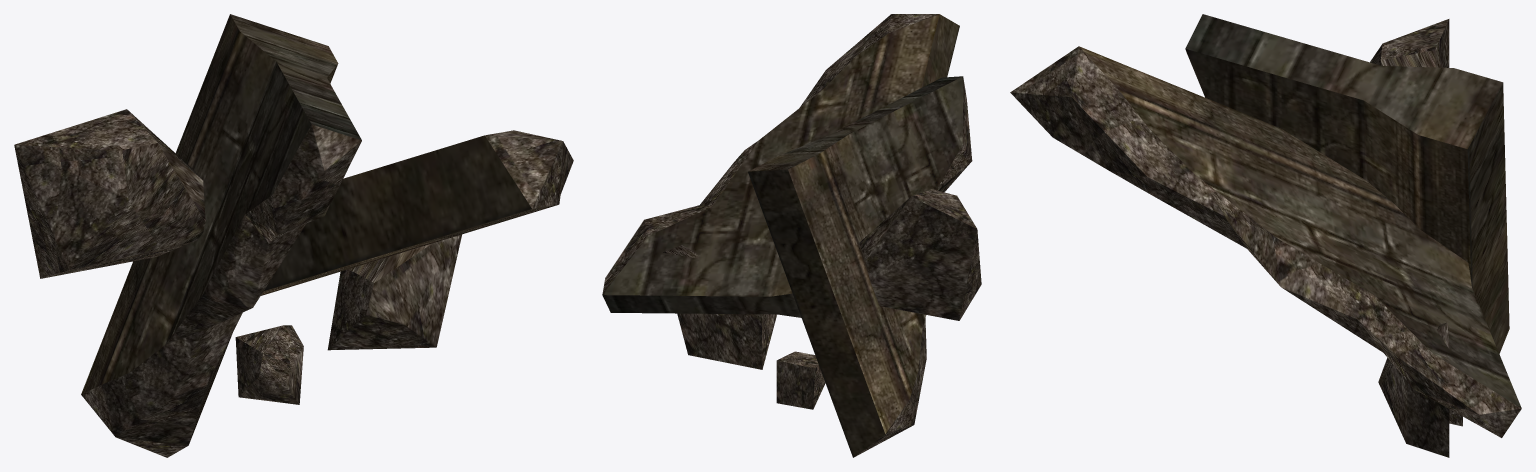
3 renders of one model, left to right at view 1: azimuth 30°, elevation 25°; view 2: azimuth 150°, elevation 25°; view 3: azimuth 270°, elevation 25°, orthographic. The views are drawn at different scales.
Parts seen in each view (by area): view 1: model_Object20; view 2: model_Object20; view 3: model_Object20.
Boxes of the visible parts, left/top/right/bottom form: model_Object20: left=14, top=14, right=573, bottom=457; model_Object20: left=602, top=14, right=981, bottom=457; model_Object20: left=1010, top=14, right=1521, bottom=457.
Bounding box in the file's own units: 3.54 × 2.97 × 3.34.
Materials: 2 (2 with a texture image).
